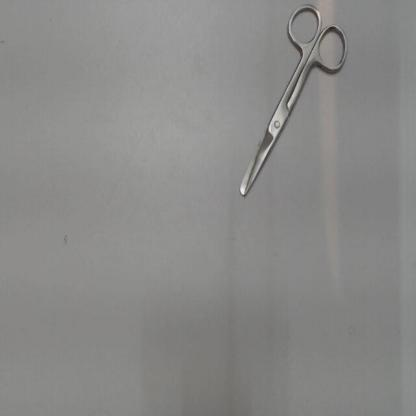Dressing Scissors: (232, 3, 360, 216)
